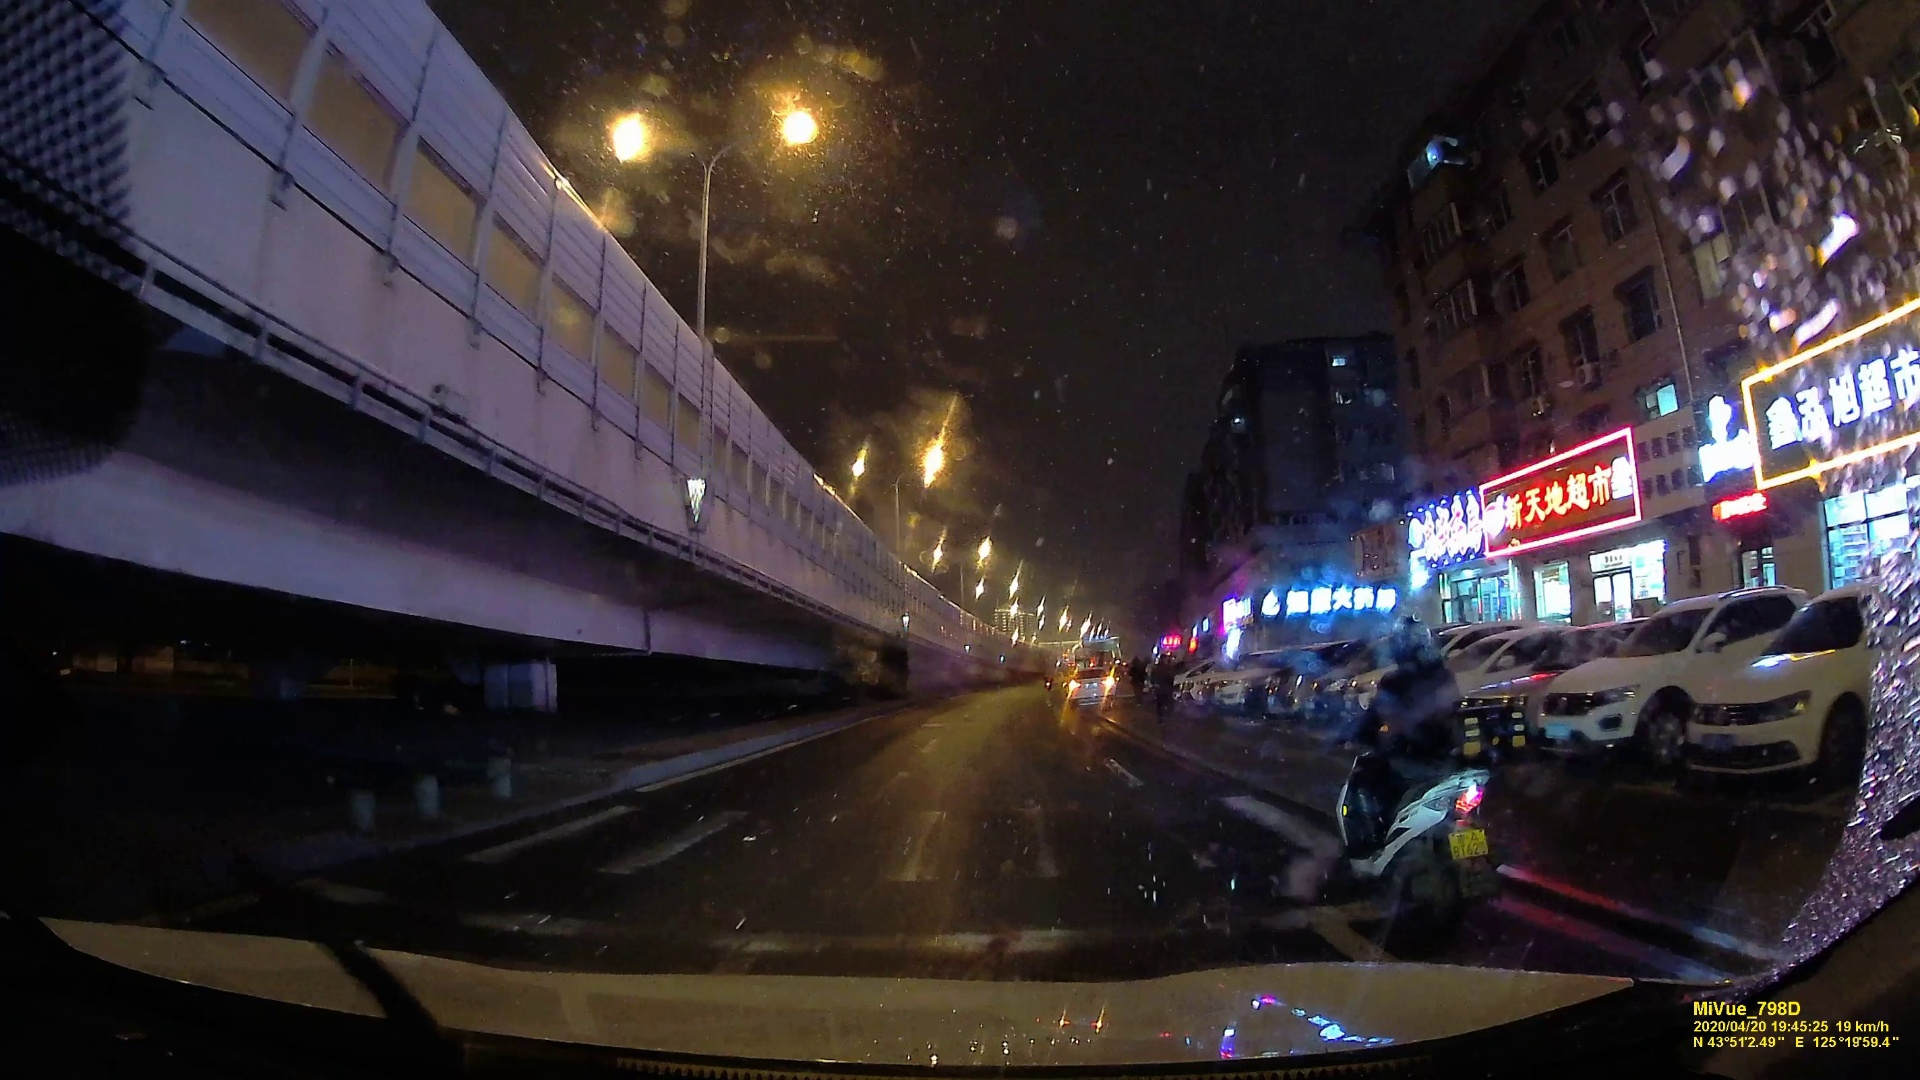person: (1351, 610, 1474, 818), (1150, 654, 1176, 722), (1128, 657, 1146, 705)
vehicle: (1066, 666, 1116, 712)
